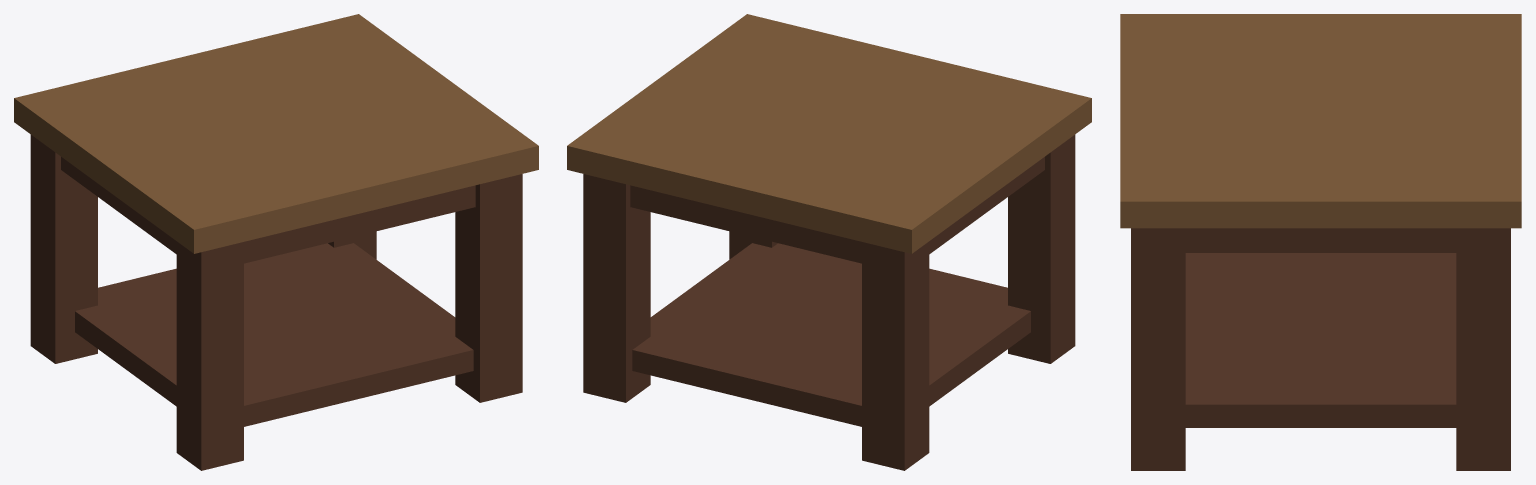
The model's file is Table_6B.fbx.
3 views of the same model, side by side, from view 1: azimuth 30°, elevation 25°; view 2: azimuth 150°, elevation 25°; view 3: azimuth 270°, elevation 25° (orthographic). The views are drawn at different scales.
Visible parts, largest first — view 1: polySurface1735; view 2: polySurface1735; view 3: polySurface1735.
Boxes of the visible parts, x1,y1,x2,y2 form: polySurface1735: [14, 14, 538, 470]; polySurface1735: [567, 14, 1091, 470]; polySurface1735: [1120, 14, 1521, 470].
Bounding box in the file's own units: 1.05 × 0.72 × 0.95.
1 material, 1 textured.
